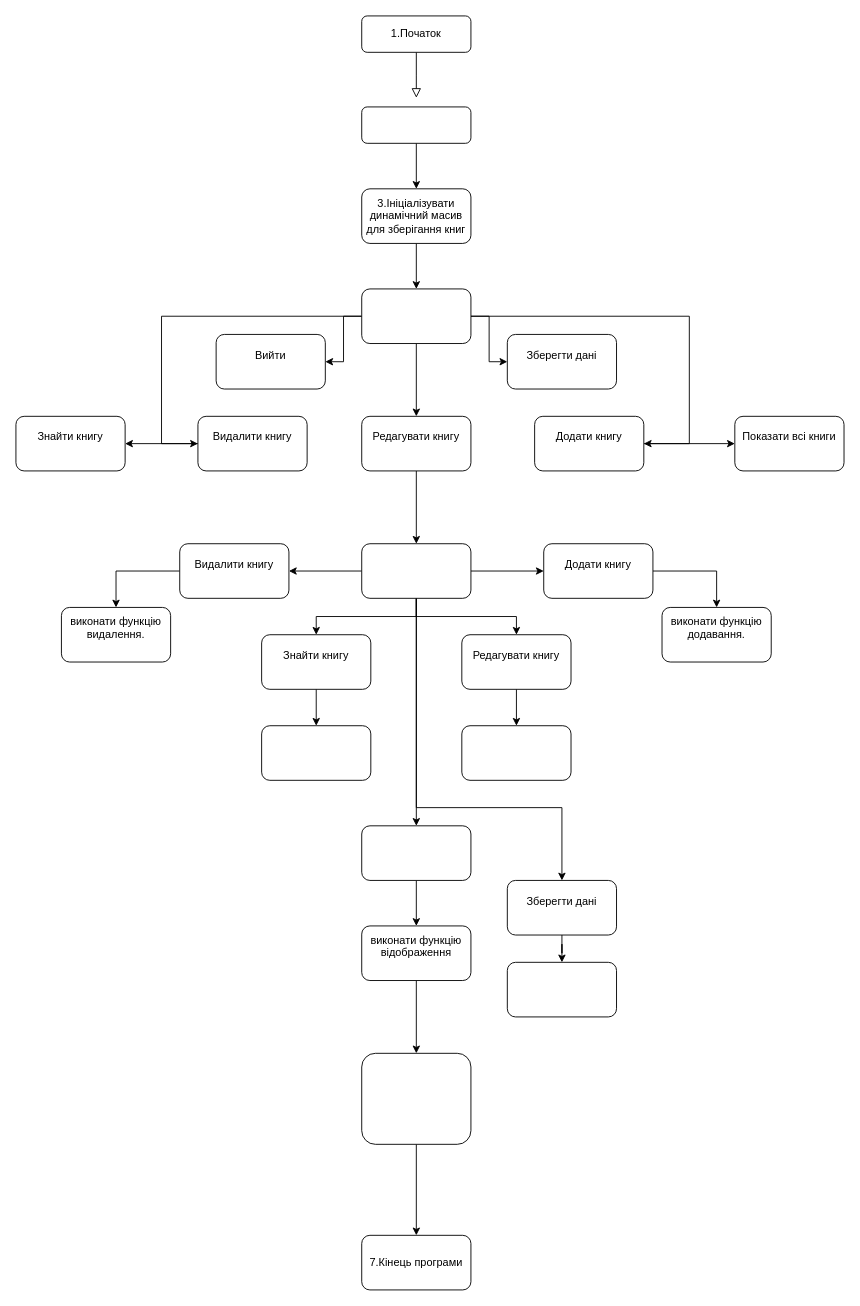
This 860x1306 diagram has some shape labels left out. Here are the shapes that lost their labels. From the top down, the centre of each, then its label:
the point at 416,124: 2.Створити структуру Book
the point at 416,316: 4.Головне меню У меню користувач обирає дію
the point at 416,570: 5.Обробка дій
the point at 316,752: виконати функцію пошуку.
the point at 516,752: виконати функцію редагування.
the point at 416,852: Показати всі книги :
the point at 561,989: виконати функцію збереження даних у файли.
the point at 416,1098: 6. Перевірка введення користувача, наприклад, правильність року, жанру
